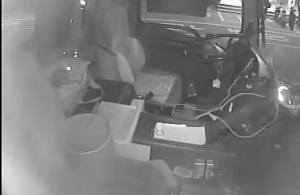paper: (154, 121, 206, 145)
